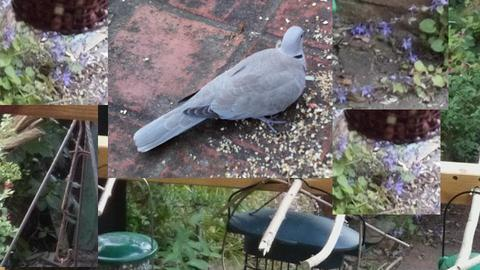collared dove: (133, 25, 308, 153)
